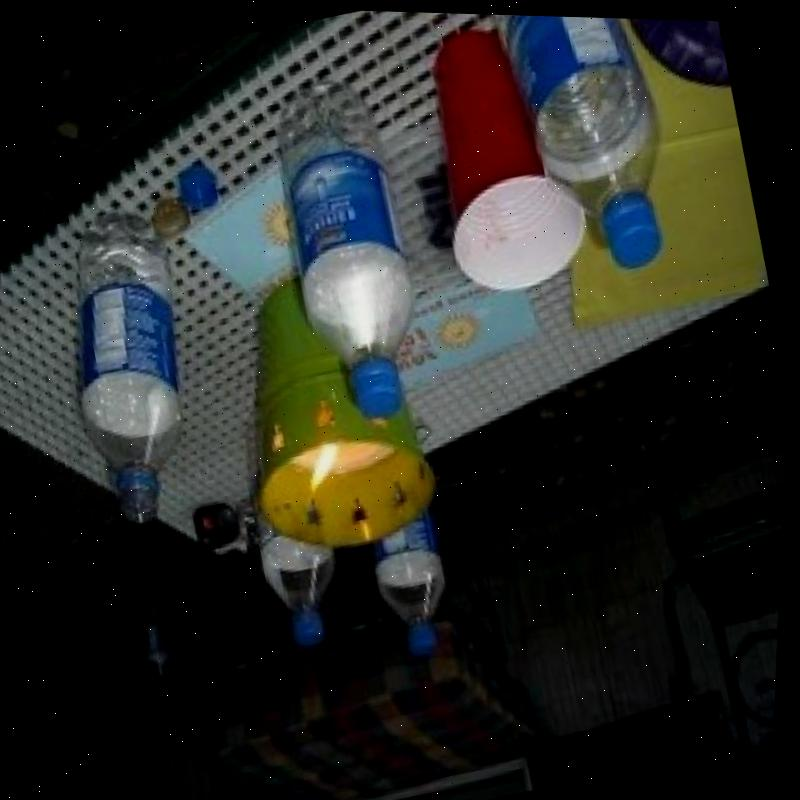botella: (252, 72, 450, 425), (33, 196, 235, 534), (472, 11, 694, 289), (234, 412, 361, 648), (364, 504, 472, 657)
